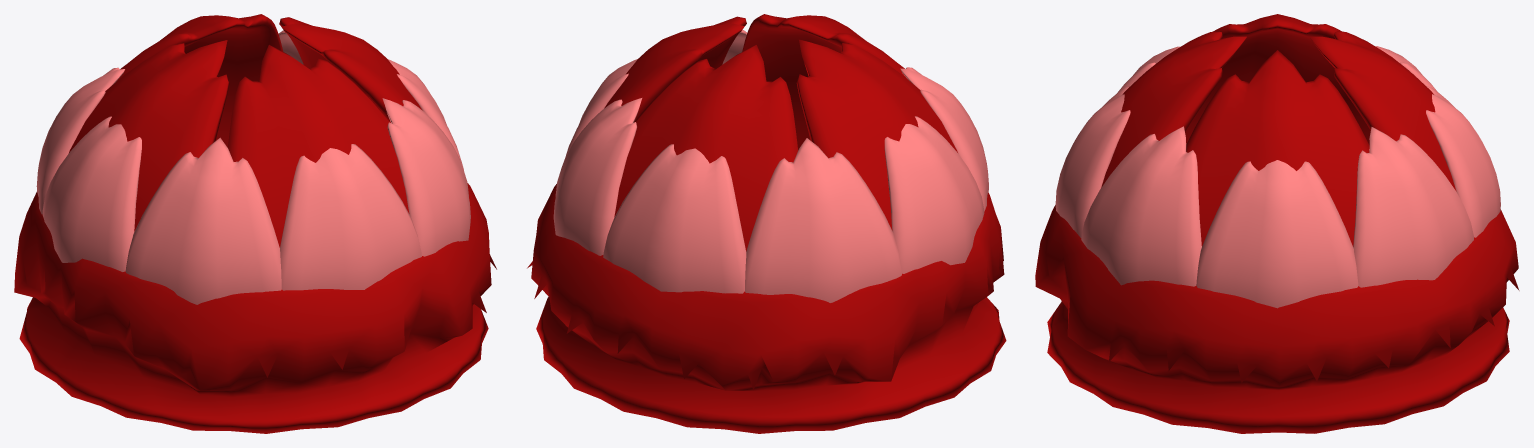
The model's file is SpawnerPod.fbx.
3 renders of one model, left to right at view 1: azimuth 30°, elevation 25°; view 2: azimuth 150°, elevation 25°; view 3: azimuth 270°, elevation 25°, orthographic.
Parts seen in each view (by area): view 1: polySurface1, pCube4 (×3), pCube2 (×3), pCube1 (×2), pCube3 (×2); view 2: polySurface1, pCube1 (×3), pCube4 (×3), pCube3 (×3), pCube2; view 3: polySurface1, pCube3 (×3), pCube2 (×3), pCube1 (×2), pCube4.
Boxes of the visible parts, x1=… form: polySurface1: x1=14, y1=183, x2=496, y2=433; pCube4 (×3): x1=42, y1=40, x2=281, y2=304; pCube2 (×3): x1=227, y1=45, x2=470, y2=290; pCube1 (×2): x1=36, y1=14, x2=283, y2=214; pCube3 (×2): x1=279, y1=17, x2=463, y2=169; polySurface1: x1=527, y1=184, x2=1006, y2=433; pCube1 (×3): x1=603, y1=45, x2=901, y2=302; pCube4 (×3): x1=796, y1=39, x2=988, y2=273; pCube3 (×3): x1=553, y1=16, x2=746, y2=255; pCube2: x1=742, y1=14, x2=907, y2=149; polySurface1: x1=1035, y1=205, x2=1519, y2=433; pCube3 (×3): x1=1186, y1=50, x2=1473, y2=308; pCube2 (×3): x1=1055, y1=31, x2=1246, y2=286; pCube1 (×2): x1=1309, y1=31, x2=1500, y2=237; pCube4: x1=1185, y1=14, x2=1370, y2=145.
Bounding box in the file's own units: 13.29 × 9.35 × 13.59.
